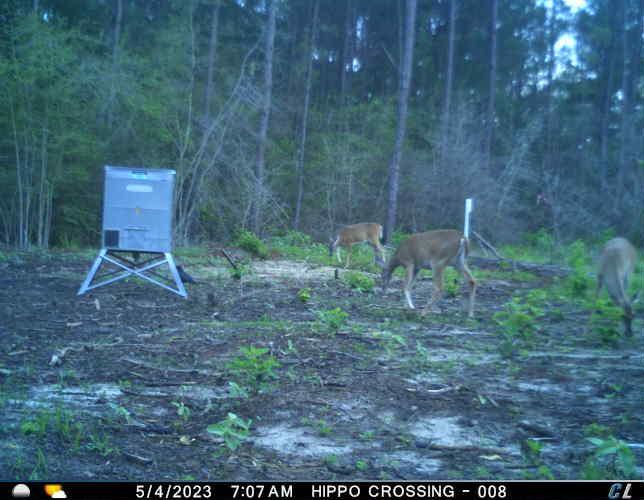Deer: (379, 223, 484, 314), (585, 231, 644, 339), (326, 219, 389, 268)
